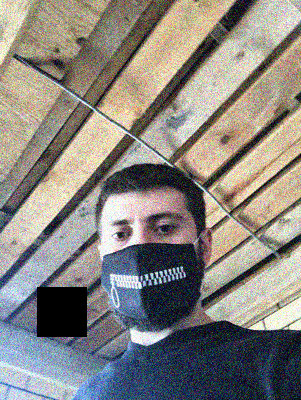with_mask: (99, 204, 199, 331)
